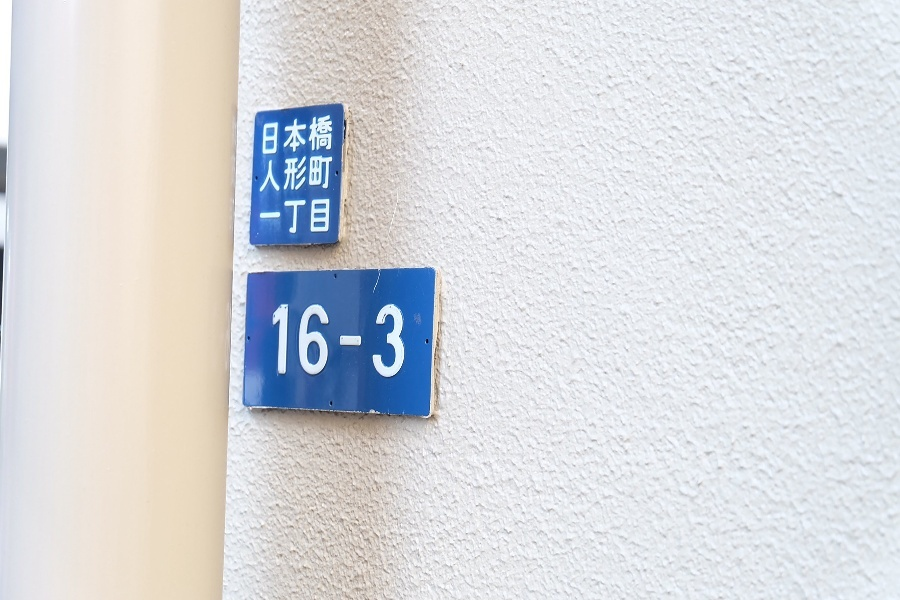text: (273, 304, 288, 380), (289, 304, 304, 380), (305, 304, 320, 380), (321, 304, 336, 380), (337, 304, 352, 380), (353, 304, 368, 380), (369, 304, 384, 380), (385, 304, 400, 380), (273, 114, 288, 156), (289, 114, 304, 156), (305, 114, 320, 156), (273, 198, 288, 235), (289, 198, 304, 235), (305, 198, 320, 235), (273, 156, 288, 192), (289, 156, 304, 192), (305, 156, 320, 192), (321, 114, 333, 156), (259, 198, 272, 235), (321, 156, 334, 192), (401, 304, 407, 380), (262, 114, 272, 156), (321, 198, 331, 235), (264, 156, 272, 192), (269, 304, 272, 380)
